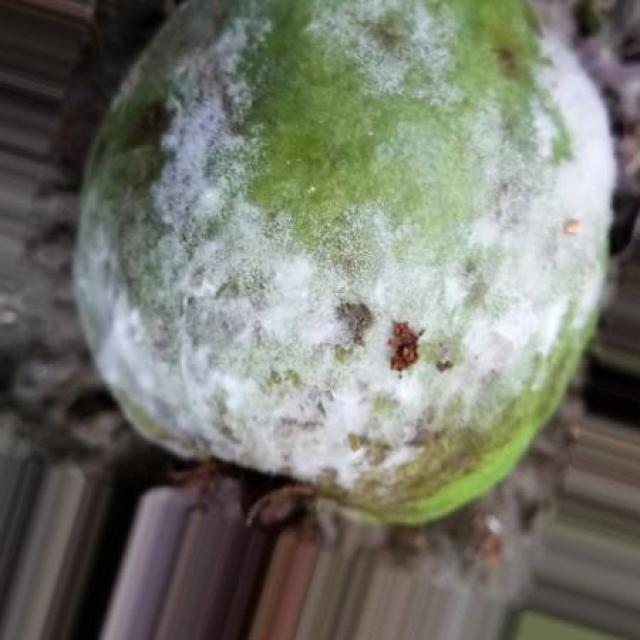Phytopthora: (75, 1, 614, 523)
